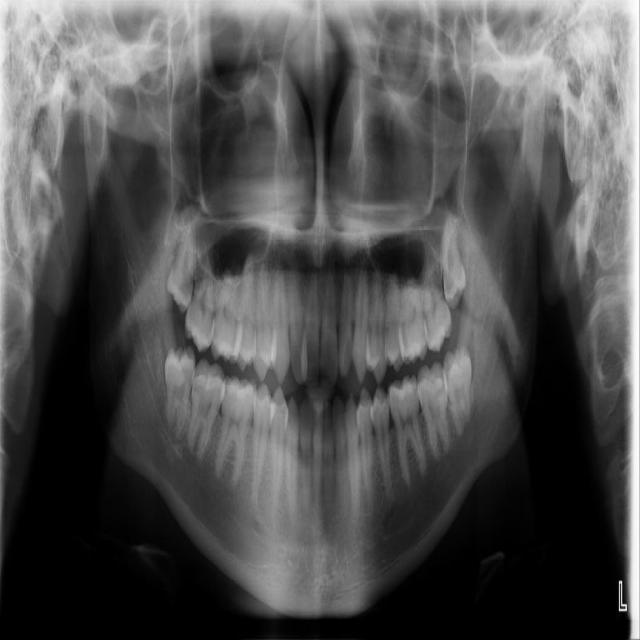3M ESPE Implant: (165, 218, 196, 313)
73: (596, 604, 600, 612)
BioHorizons Implant: (423, 250, 452, 353)
BioLife Implant: (436, 208, 469, 310)
Biomet 3i Implant: (442, 345, 472, 436)
Blue Sky Bio Implant: (416, 360, 450, 462)
Caries: (183, 238, 218, 354)
Implant: (186, 356, 228, 465)
Keystone Dental Implant: (153, 342, 199, 440)
